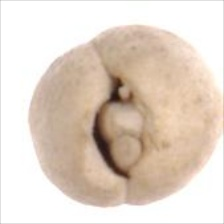L3: (90, 74, 153, 185)
L4: (28, 24, 220, 207)
